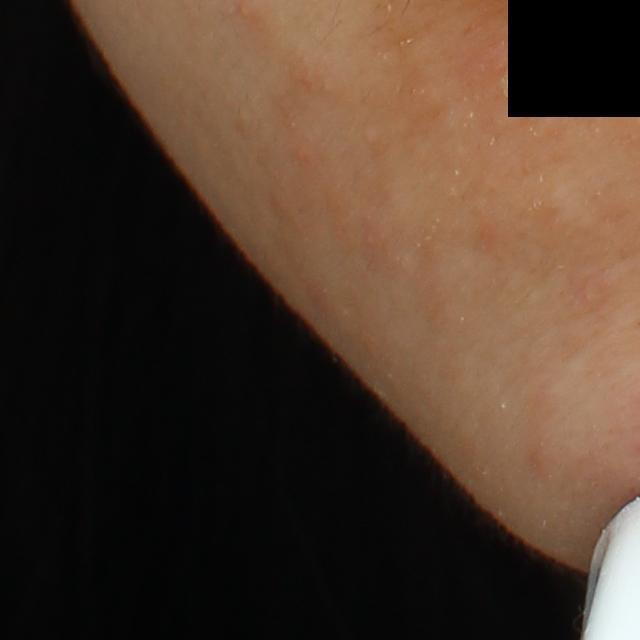comedo: (358, 125, 384, 152)
hypertrophic_scar: (545, 184, 601, 237)
